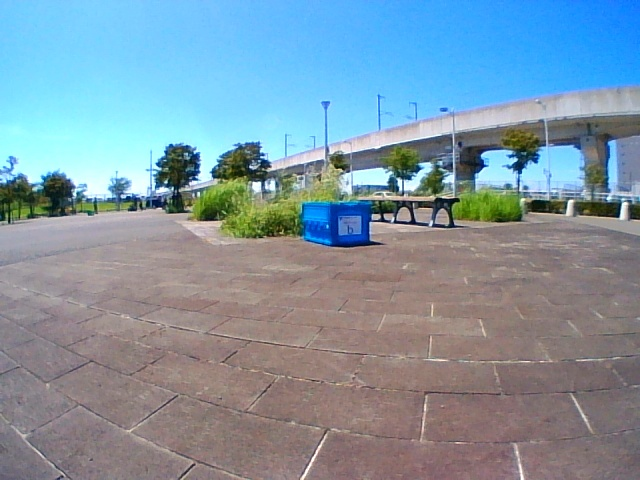blue_box: (304, 203, 369, 242)
tag_b: (339, 216, 360, 235)
